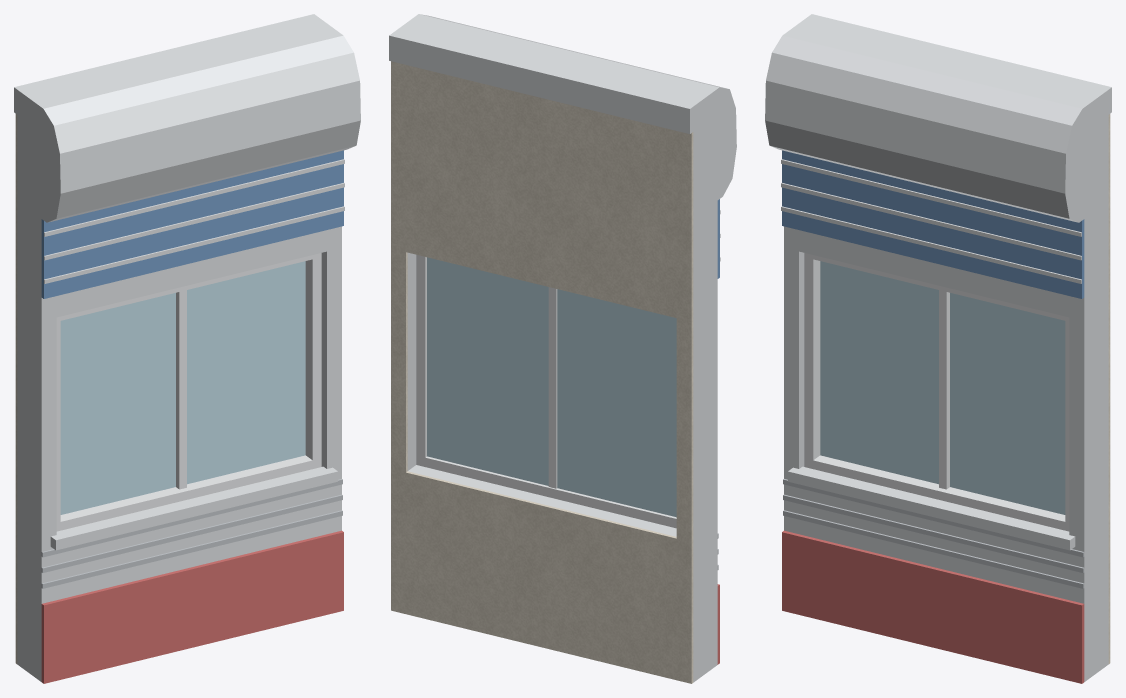
Rendered from wall_diner_window.glb.
3 renders of one model, left to right at view 1: azimuth 30°, elevation 25°; view 2: azimuth 150°, elevation 25°; view 3: azimuth 330°, elevation 25°, orthographic.
Visible parts, largest first — view 1: wall_diner_window_steel, wall_diner_window_glass, wall_diner_window_enamel_red, wall_diner_window_enamel, wall_diner_window_frame, wall_diner_window_steel_dark, wall_diner_window_plaster; view 2: wall_diner_window_plaster, wall_diner_window_glass, wall_diner_window_steel, wall_diner_window_frame; view 3: wall_diner_window_steel, wall_diner_window_glass, wall_diner_window_enamel_red, wall_diner_window_enamel, wall_diner_window_frame, wall_diner_window_steel_dark, wall_diner_window_plaster.
Part boxes in pixels (x1,y1,x2,y2): wall_diner_window_steel: [14, 14, 360, 681]; wall_diner_window_glass: [60, 261, 305, 514]; wall_diner_window_enamel_red: [41, 530, 343, 683]; wall_diner_window_enamel: [41, 150, 343, 298]; wall_diner_window_frame: [56, 253, 321, 531]; wall_diner_window_steel_dark: [41, 479, 342, 588]; wall_diner_window_plaster: [15, 114, 17, 663]; wall_diner_window_plaster: [391, 61, 693, 683]; wall_diner_window_glass: [427, 257, 676, 517]; wall_diner_window_steel: [389, 14, 736, 682]; wall_diner_window_frame: [416, 254, 676, 528]; wall_diner_window_steel: [765, 14, 1111, 681]; wall_diner_window_glass: [820, 261, 1065, 514]; wall_diner_window_enamel_red: [782, 530, 1084, 683]; wall_diner_window_enamel: [782, 150, 1084, 298]; wall_diner_window_frame: [804, 253, 1069, 531]; wall_diner_window_steel_dark: [783, 479, 1084, 588]; wall_diner_window_plaster: [1108, 114, 1110, 663].
Size of the model in its own units: 2 by 3.66 by 0.54.
7 materials, 1 textured.
